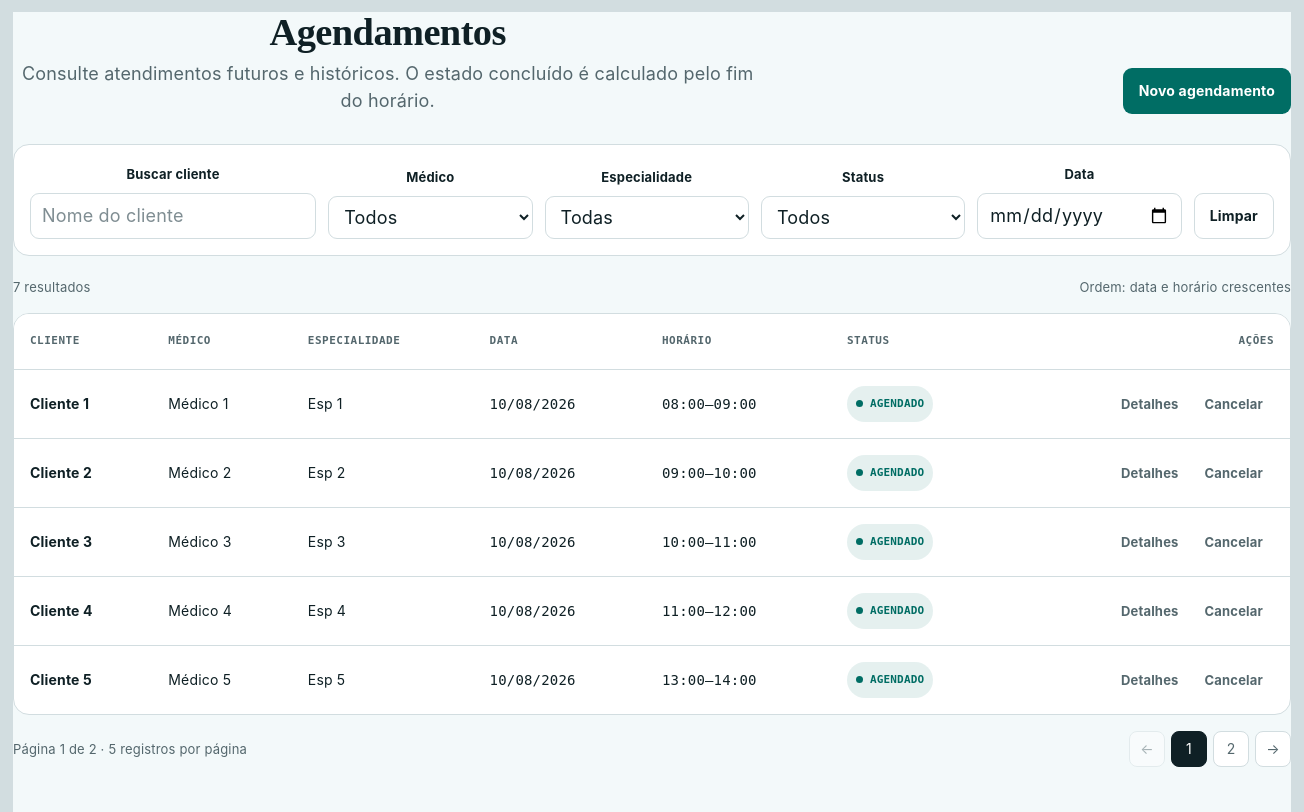
AgendamentosPage — estado vazio › exibe vazio com botão Limpar filtros e restaura listagem ao clicar
Expected: the text "Cliente 1" is shown, [30, 394, 89, 412]
Select "AGENDADO" in the dropdown labelled "Status" at (863, 217), box [761, 196, 965, 239]
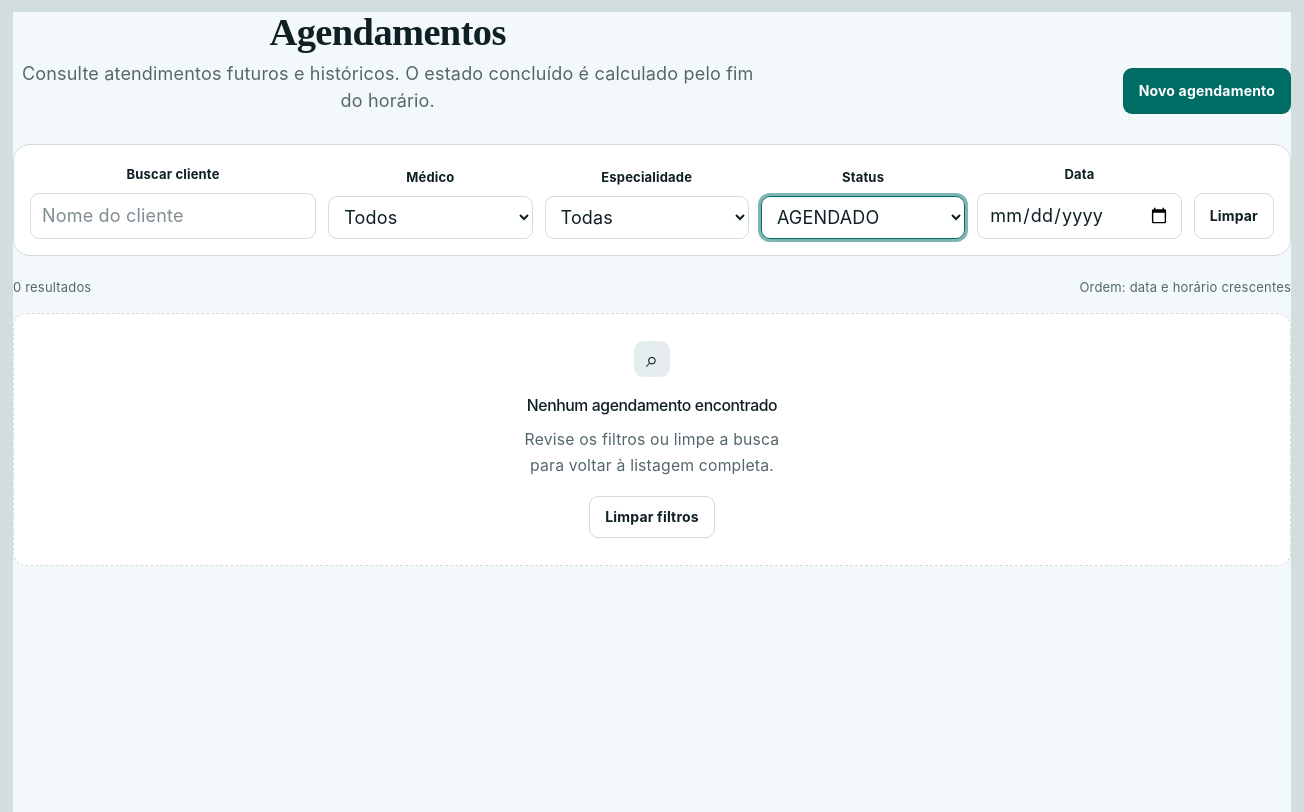
Expected: the text "Nenhum agendamento encontrado" is shown, [527, 395, 777, 418]
Expected: the text "Revise os filtros ou limpe a busca para voltar à listagem completa." is shown, [525, 430, 779, 474]
Expected: the button "Limpar filtros" is shown
clica em Limpar filtros → restaura a listagem
Click the button "Limpar filtros" at (652, 517), box [589, 496, 715, 538]
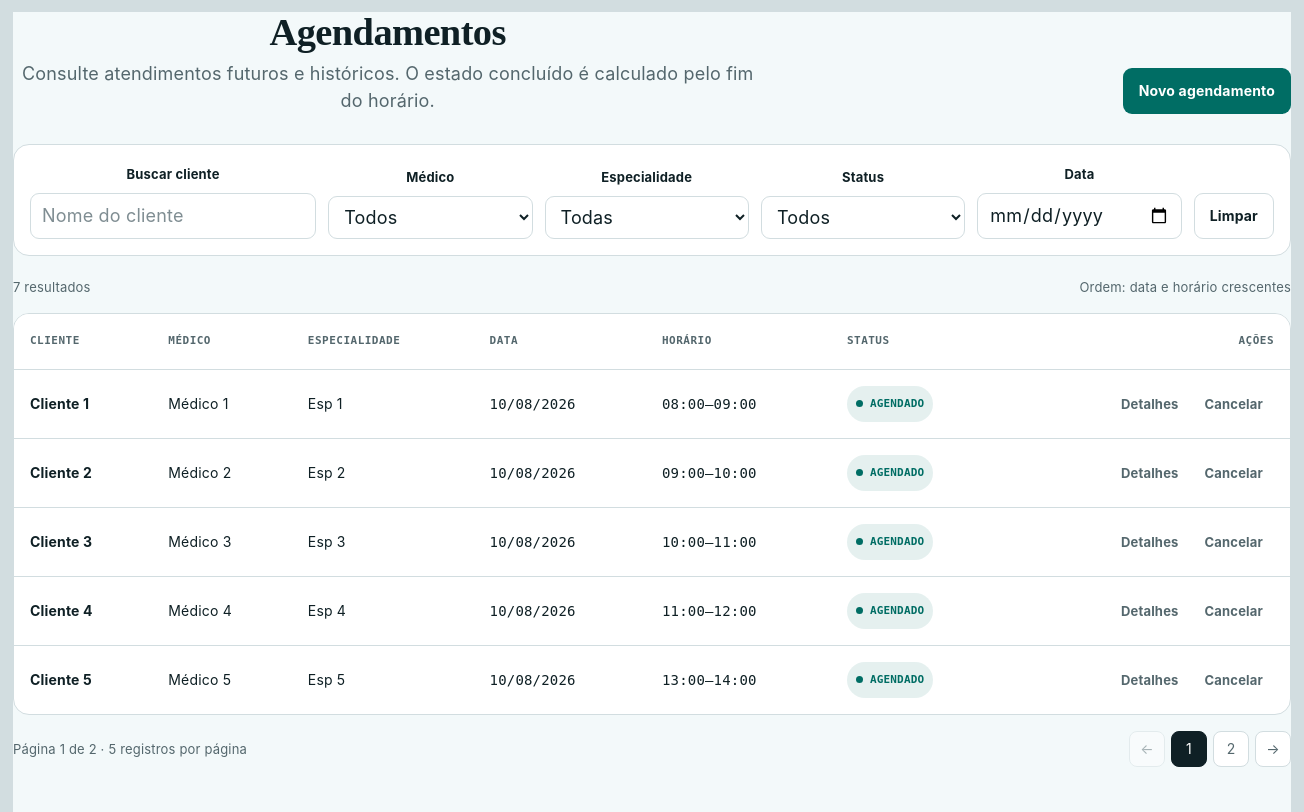
Expected: the text "Cliente 1" is shown, [30, 394, 89, 412]
Expected: the button "Limpar filtros" is gone
